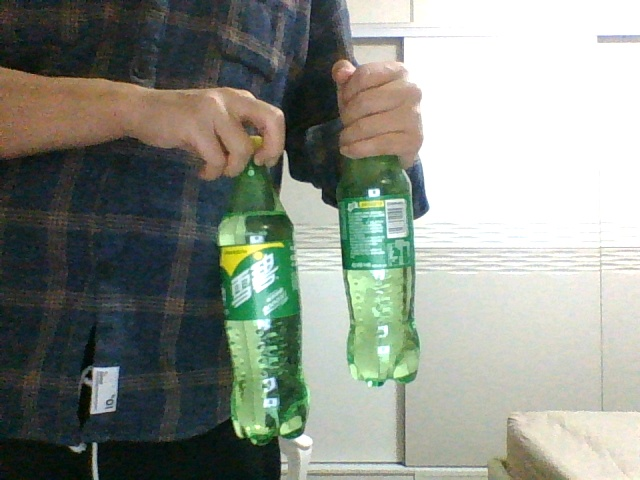Sprite: (217, 135, 307, 444), (336, 152, 419, 387)
